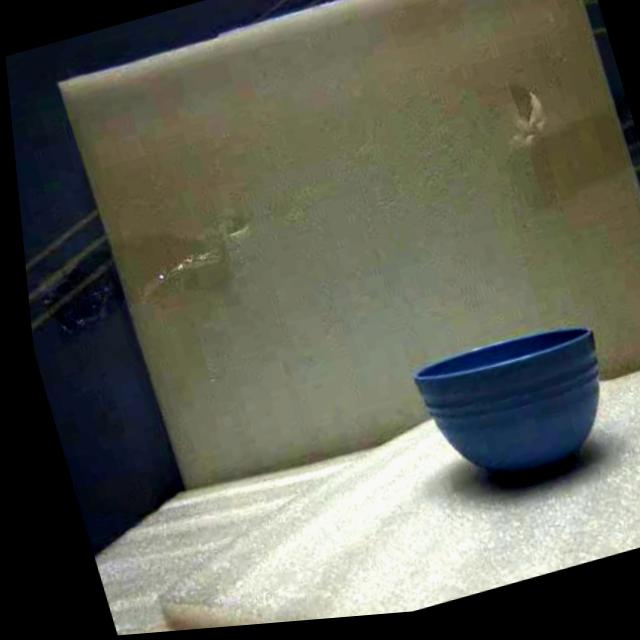Bowl: (414, 329, 599, 480)
